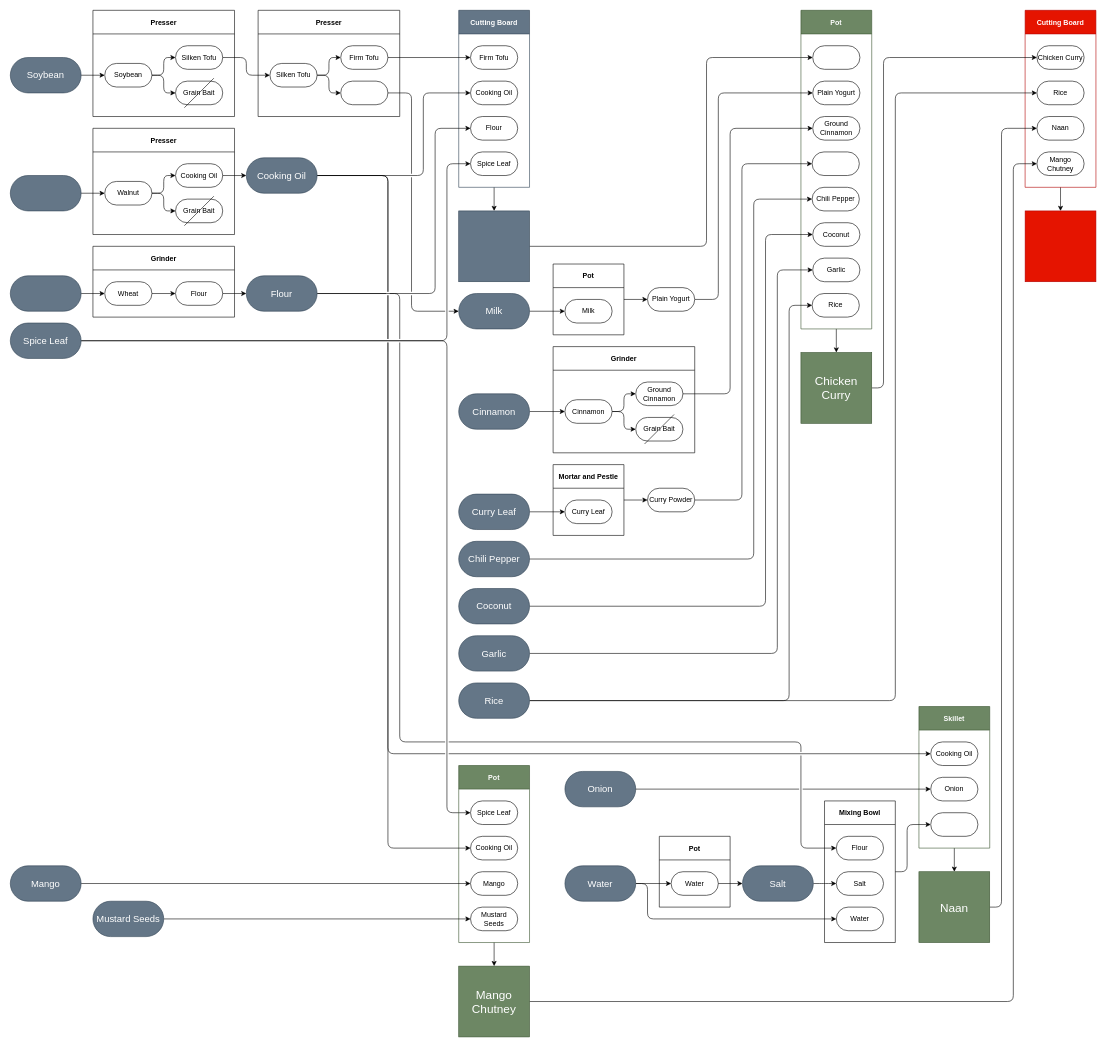
Image size: 1106x1047. Some labels were removed from this diagram. The centre of each missing label's shape, as x and y in pixels:
(Any spice): the point at 835,163
(Walnut): the point at 45,193
(Wheat): the point at 45,293
Deluxe Chicken Curry: the point at 1060,246
Dough: the point at 954,824
Raw Chicken: the point at 836,57
Raw toficken ×4: the point at 494,246
Soy Milk: the point at 364,93
